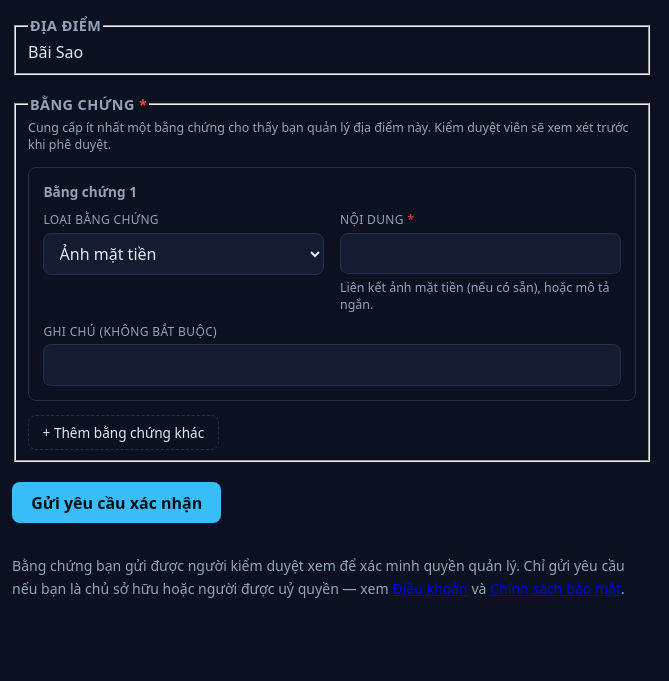
Test: ClaimForm — gửi form › không có session → báo lỗi, không gọi API
In the field labelled "Nội dung *": (480, 253) [340, 233, 621, 274], type "x"
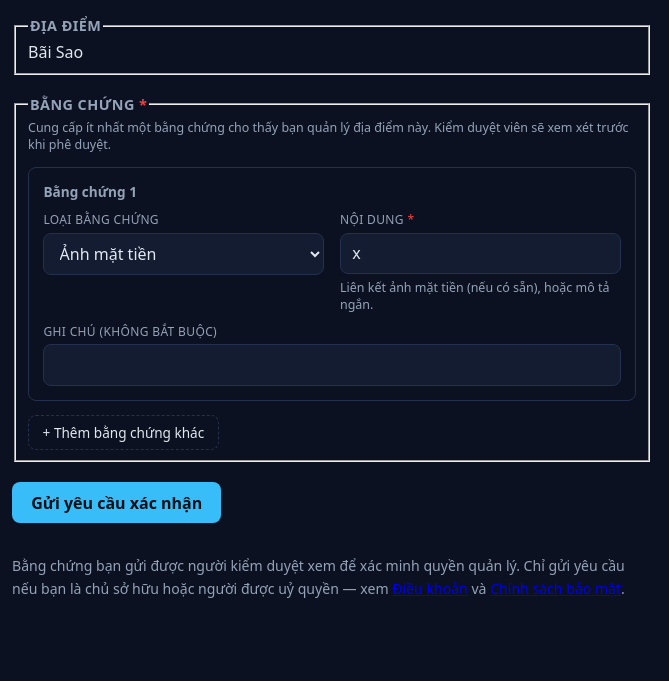
Click the button "Gửi yêu cầu xác nhận": (117, 503) [12, 482, 222, 524]
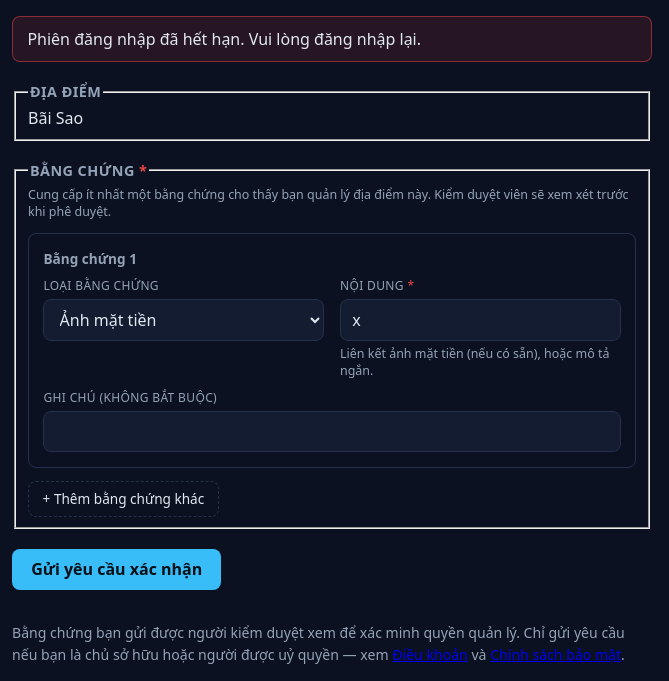
Result: the message shows "Phiên đăng nhập đã hết hạn" at [27, 28, 421, 50]
